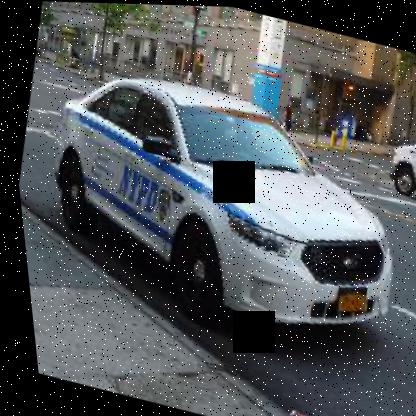emergency: (16, 45, 415, 367)
